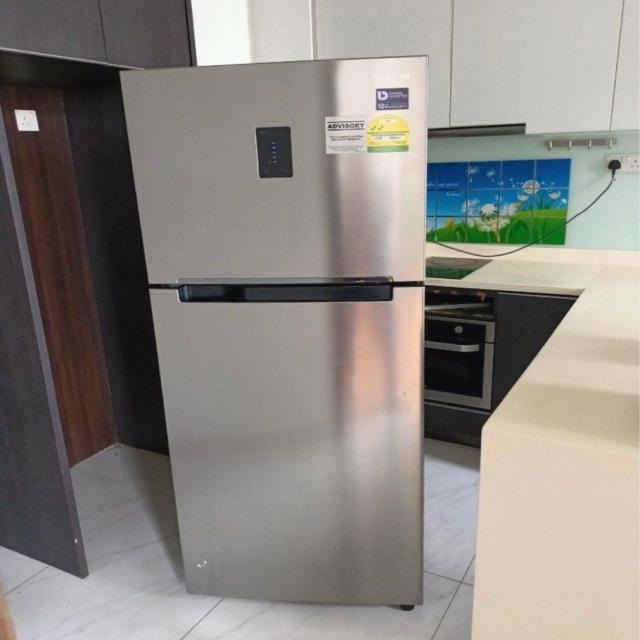refrigerator: (119, 54, 430, 611)
